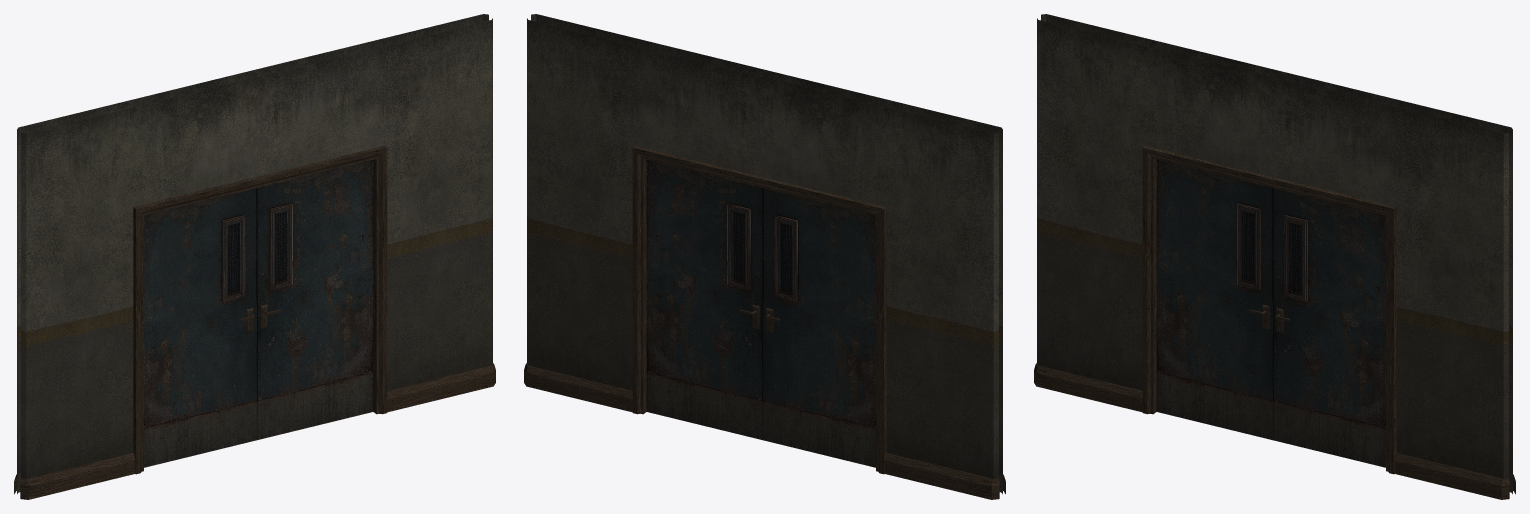
File: doorway_3_wide.glb
3 views of the same model, side by side, from view 1: azimuth 30°, elevation 25°; view 2: azimuth 150°, elevation 25°; view 3: azimuth 330°, elevation 25° (orthographic).
Visible parts, largest first — view 1: doorway_3_wide, double_door_3_piece_2, double_door_3_piece_1; view 2: doorway_3_wide, double_door_3_piece_2, double_door_3_piece_1; view 3: doorway_3_wide, double_door_3_piece_1, double_door_3_piece_2.
Part boxes in pixels (box(x1,y1,x2,y2)): doorway_3_wide: box(14, 14, 495, 499); double_door_3_piece_2: box(257, 159, 373, 440); double_door_3_piece_1: box(144, 188, 256, 467); doorway_3_wide: box(524, 14, 1005, 499); double_door_3_piece_2: box(646, 159, 762, 440); double_door_3_piece_1: box(763, 188, 875, 467); doorway_3_wide: box(1034, 14, 1515, 499); double_door_3_piece_1: box(1156, 159, 1272, 440); double_door_3_piece_2: box(1273, 188, 1385, 467).
Bounding box in the file's own units: 4.09 × 3 × 0.2.
Materials: 4 (4 with a texture image).
